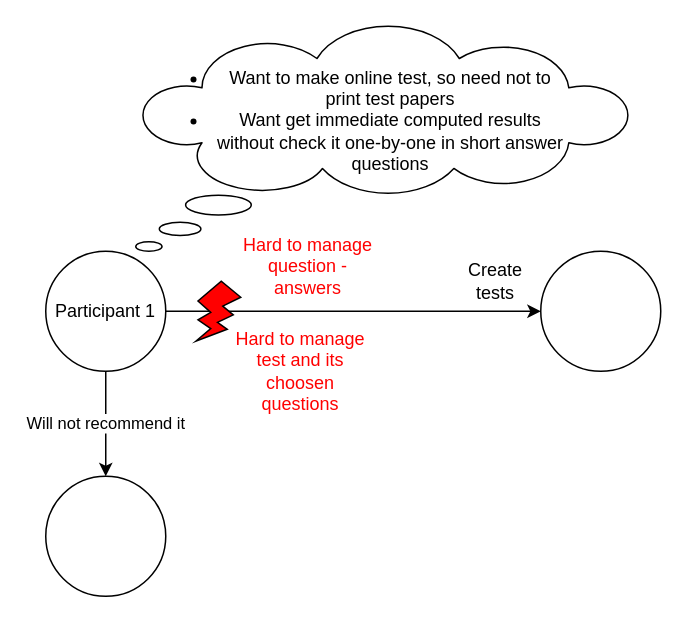
This 687x623 diagram has some shape labels left out. Each missing label, with the centre of its shape:
Friends: point (105, 535)
TcExam: point (600, 310)
